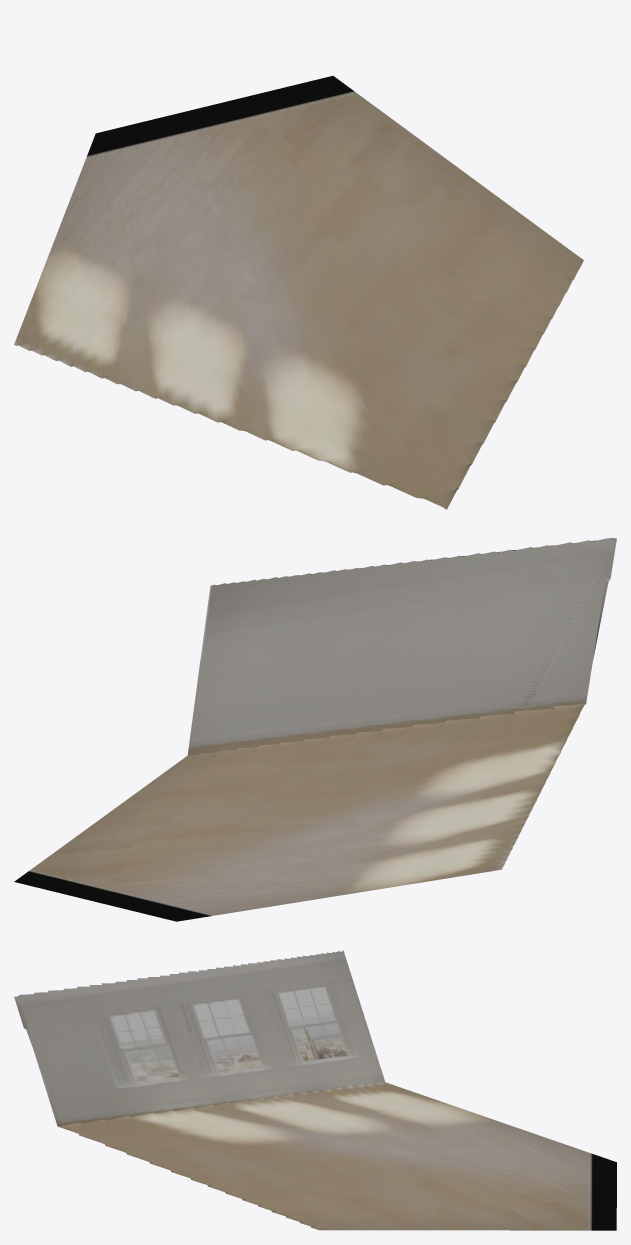
File: 2_dense.glb
3 renders of one model, top to bottom at view 1: azimuth 30°, elevation 25°; view 2: azimuth 150°, elevation 25°; view 3: azimuth 270°, elevation 25°, orthographic. The views are drawn at different scales.
Parts seen in each view (by area): view 1: world; view 2: world; view 3: world.
Boxes of the visible parts, bbox=[...] form: world: bbox=[14, 76, 583, 509]; world: bbox=[14, 538, 616, 921]; world: bbox=[14, 950, 616, 1230].
Bounding box in the file's own units: 4.99 × 2.04 × 8.4.
